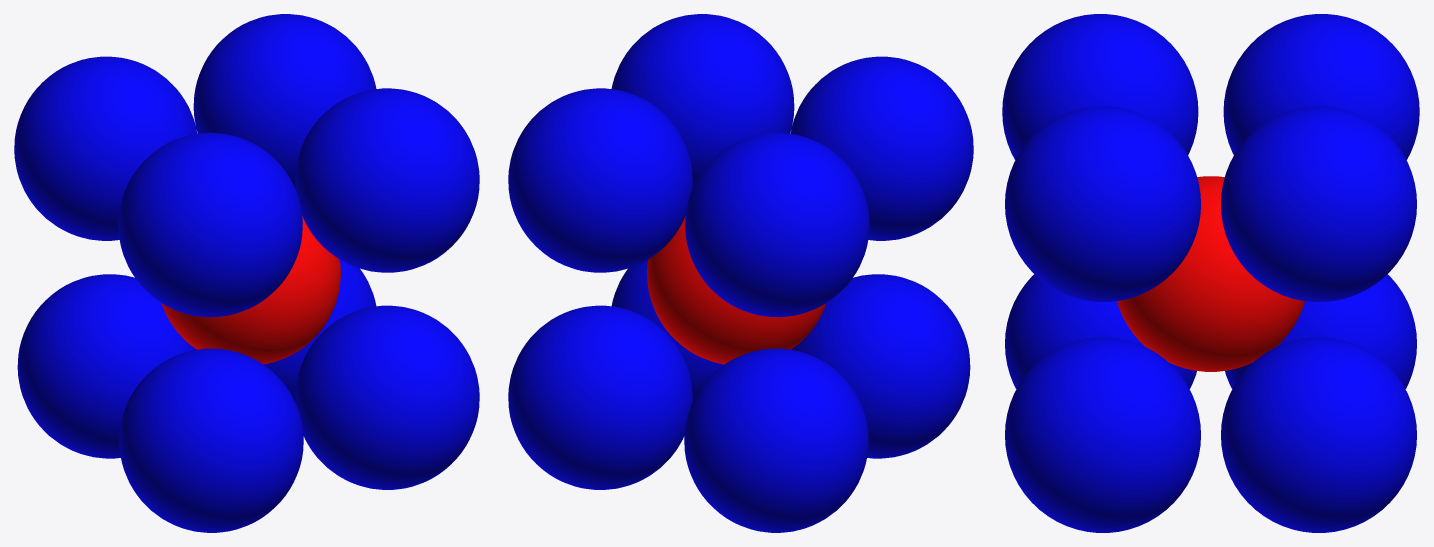
The model's file is bcc.gltf.
3 renders of one model, left to right at view 1: azimuth 30°, elevation 25°; view 2: azimuth 150°, elevation 25°; view 3: azimuth 270°, elevation 25°, orthographic. The views are drawn at different scales.
Parts seen in each view (by area): view 1: Part 6, Part 3, Part 5, Part 8, Part 2, Part 7, Part 4, Part 1, Part 9; view 2: Part 7, Part 2, Part 4, Part 9, Part 3, Part 6, Part 5, Part 1, Part 8; view 3: Part 5, Part 4, Part 9, Part 8, Part 2, Part 3, Part 1, Part 6, Part 7.
Part boxes in pixels (left/top/right/bottom): Part 6: left=119, top=348, right=303, bottom=532; Part 3: left=118, top=132, right=302, bottom=317; Part 5: left=295, top=88, right=479, bottom=272; Part 8: left=295, top=305, right=479, bottom=489; Part 2: left=14, top=56, right=197, bottom=240; Part 7: left=17, top=274, right=196, bottom=458; Part 4: left=193, top=14, right=376, bottom=188; Part 1: left=161, top=216, right=340, bottom=364; Part 9: left=263, top=260, right=376, bottom=401; Part 7: left=684, top=348, right=868, bottom=532; Part 2: left=685, top=132, right=869, bottom=317; Part 4: left=508, top=88, right=692, bottom=272; Part 9: left=508, top=305, right=692, bottom=489; Part 3: left=790, top=56, right=973, bottom=240; Part 6: left=791, top=274, right=970, bottom=458; Part 5: left=611, top=14, right=794, bottom=188; Part 1: left=647, top=216, right=826, bottom=364; Part 8: left=611, top=260, right=724, bottom=401; Part 5: left=1005, top=106, right=1200, bottom=301; Part 4: left=1221, top=106, right=1416, bottom=301; Part 9: left=1221, top=337, right=1416, bottom=532; Part 8: left=1005, top=337, right=1200, bottom=532; Part 2: left=1223, top=14, right=1419, bottom=160; Part 3: left=1002, top=14, right=1198, bottom=160; Part 1: left=1117, top=176, right=1304, bottom=371; Part 6: left=1005, top=274, right=1196, bottom=389; Part 7: left=1225, top=274, right=1416, bottom=389.
Size of the model in its own units: 0.0663 by 0.072 by 0.0667.
